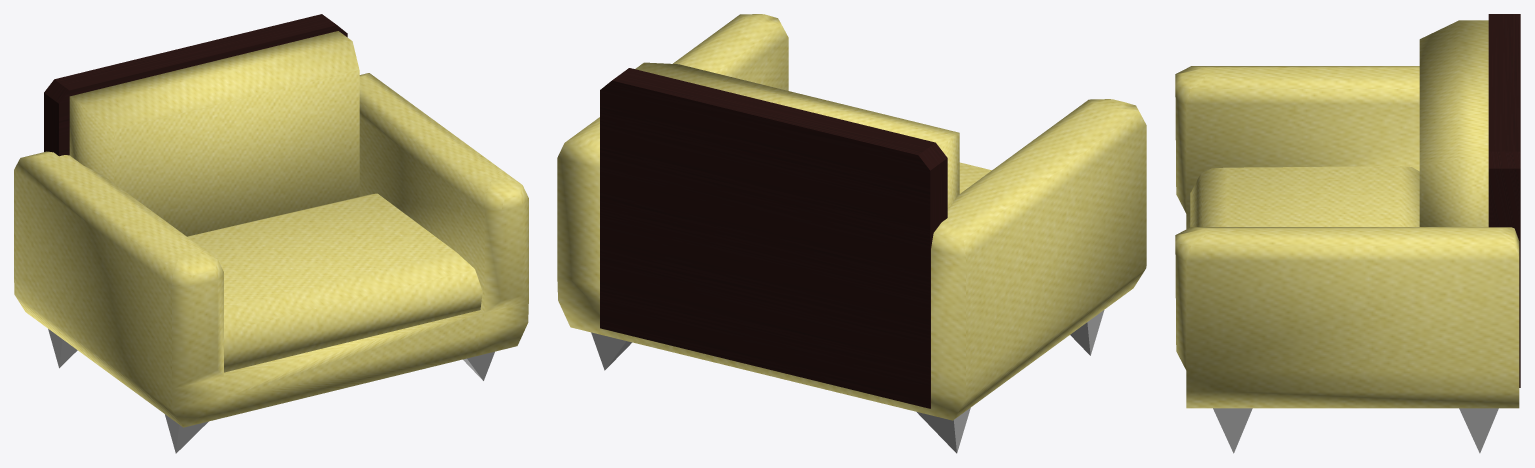
Rendered from Armchair_I.FBX.
The picture shows the model from 3 angles, left to right: view 1: azimuth 30°, elevation 25°; view 2: azimuth 150°, elevation 25°; view 3: azimuth 270°, elevation 25°; orthographic projection. The views are drawn at different scales.
Parts seen in each view (by area): view 1: Flatback_Chair; view 2: Flatback_Chair; view 3: Flatback_Chair.
Boxes of the visible parts, bbox=[...] form: Flatback_Chair: bbox=[14, 14, 528, 453]; Flatback_Chair: bbox=[557, 14, 1146, 453]; Flatback_Chair: bbox=[1175, 14, 1520, 453].
Size of the model in its own units: 214 by 157 by 170.
